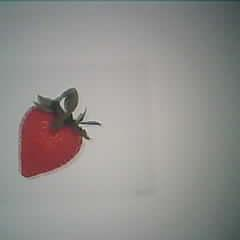straw-ripe: (19, 106, 86, 176)
